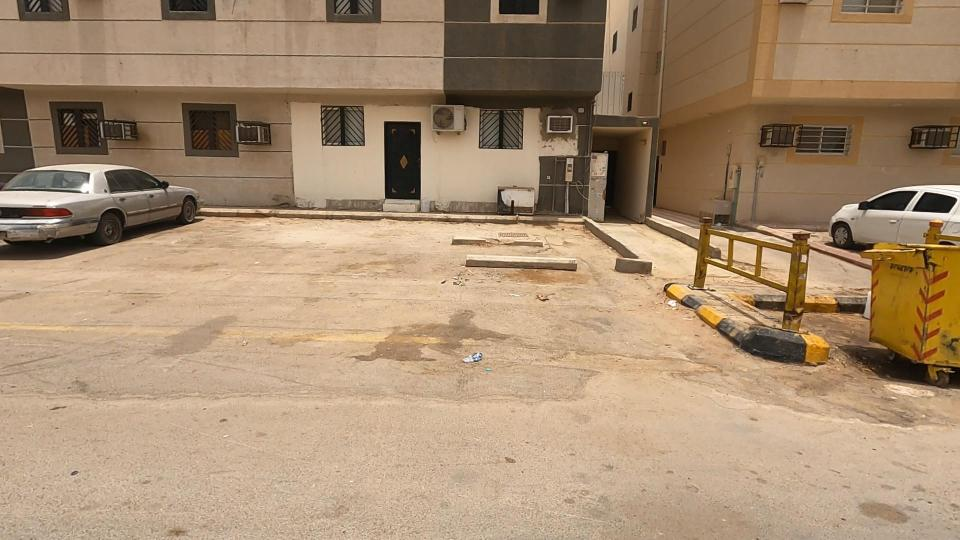GARBAGE: (424, 334, 518, 386), (429, 258, 493, 299)
POTHOLES: (483, 314, 762, 412)
